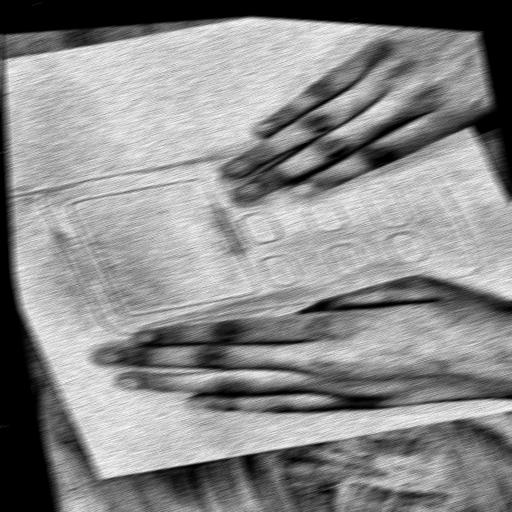mobile: (5, 107, 497, 357)
top_right: (95, 474, 109, 482)
